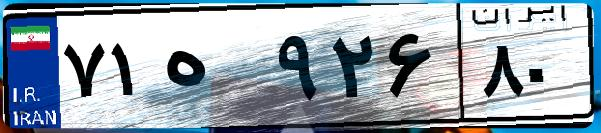0: (525, 38, 570, 115)
1: (110, 28, 158, 98)
2: (330, 28, 385, 110)
6: (385, 28, 445, 110)
7: (57, 26, 110, 100)
8: (475, 38, 525, 113)
9: (270, 28, 330, 110)
ه: (158, 20, 270, 120)
